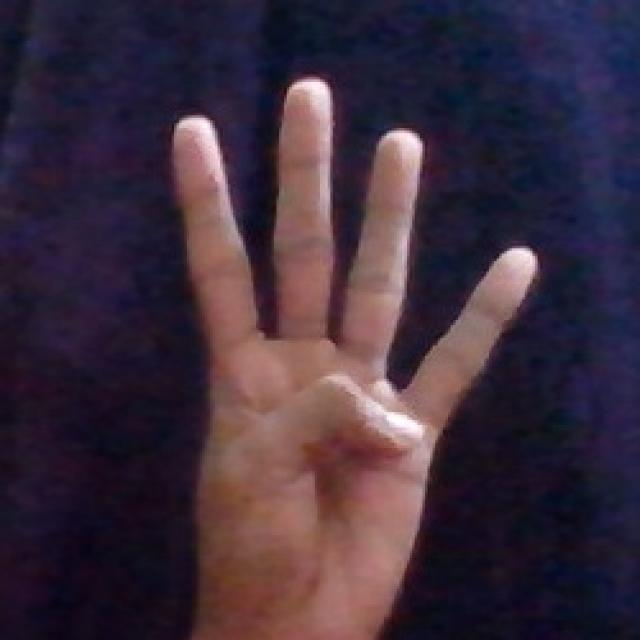Numeric-4: (173, 79, 538, 609)
